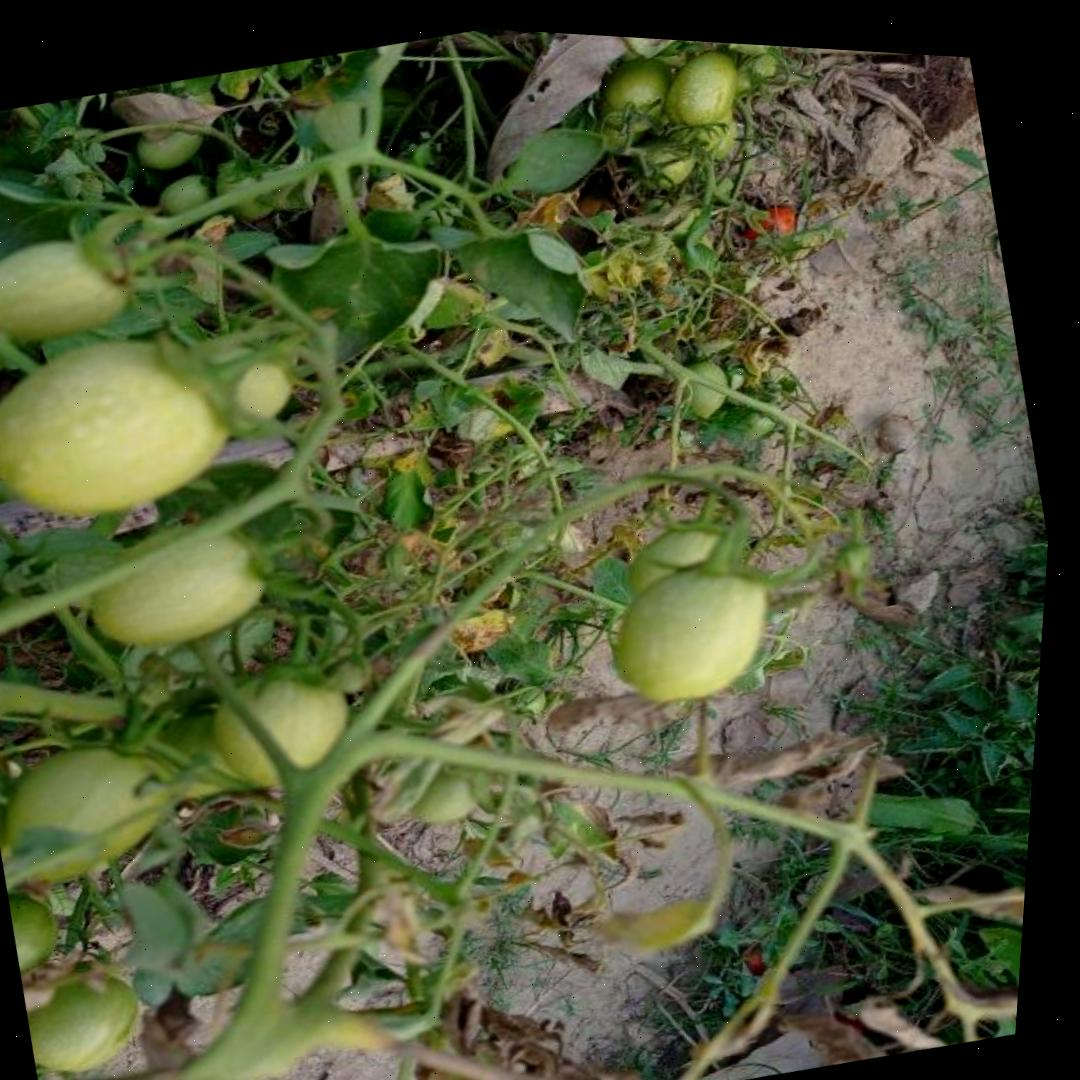mentah: (0, 309, 253, 542), (75, 500, 283, 665), (0, 722, 187, 898), (597, 551, 787, 720), (199, 648, 367, 802), (0, 219, 145, 359), (15, 954, 152, 1080), (587, 49, 685, 142), (661, 45, 747, 135), (2, 882, 72, 981)
